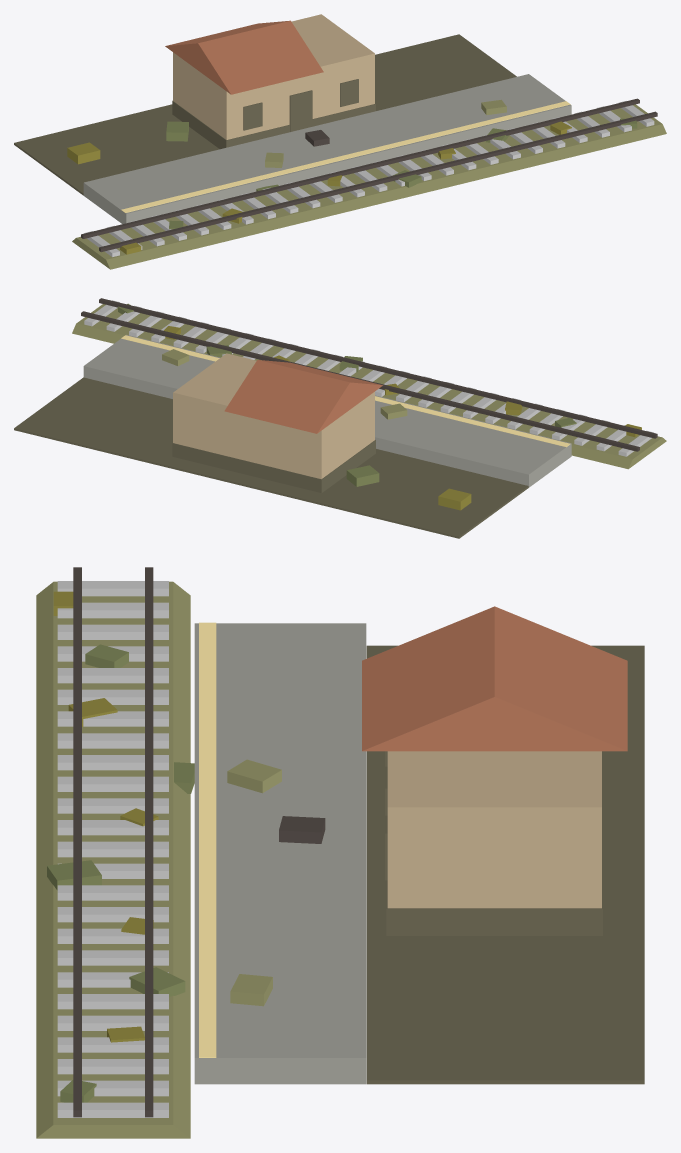
The model's file is SM_EstacionH1_v3_Abandonada_LOD1.fbx.
3 views of the same model, one above another, from view 1: azimuth 30°, elevation 25°; view 2: azimuth 150°, elevation 25°; view 3: azimuth 270°, elevation 25° (orthographic). The views are drawn at different scales.
Parts seen in each view (by area): view 1: SM_estacion_h1_v3_LOD1; view 2: SM_estacion_h1_v3_LOD1; view 3: SM_estacion_h1_v3_LOD1.
Part boxes in pixels (x1,y1,x2,y2): SM_estacion_h1_v3_LOD1: (14,14,666,269); SM_estacion_h1_v3_LOD1: (14,298,666,538); SM_estacion_h1_v3_LOD1: (36,567,644,1138).
Bounding box in the file's own units: 30 × 4.8 × 14.2.
